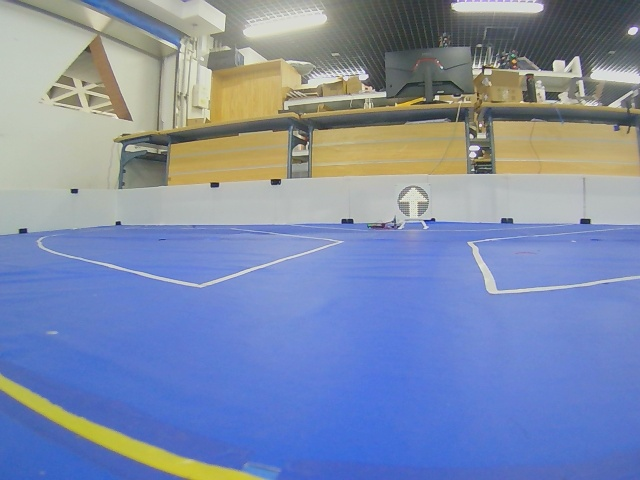straight_yellow: (398, 186, 429, 218)
